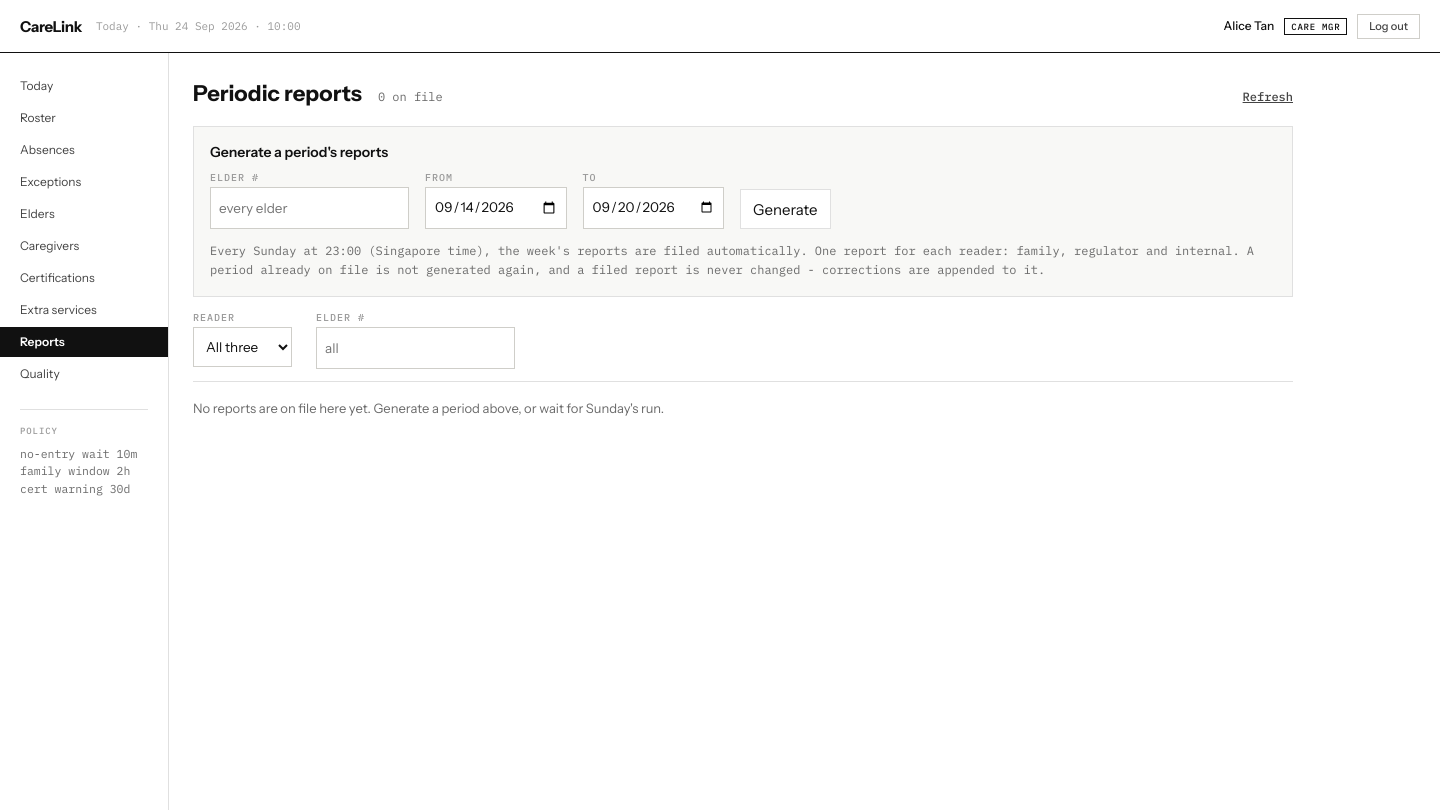
Test case: the report list › offers last week, files the period's three reports and reads the list again
expect the text "No reports are on file here yet" is shown: met, box x1=193 y1=400 x2=664 y2=416
expect the date field labelled "From" holds "2026-09-14": met, box x1=425 y1=187 x2=566 y2=229
Click the button "Generate" at (785, 209), box x1=740 y1=189 x2=830 y2=229
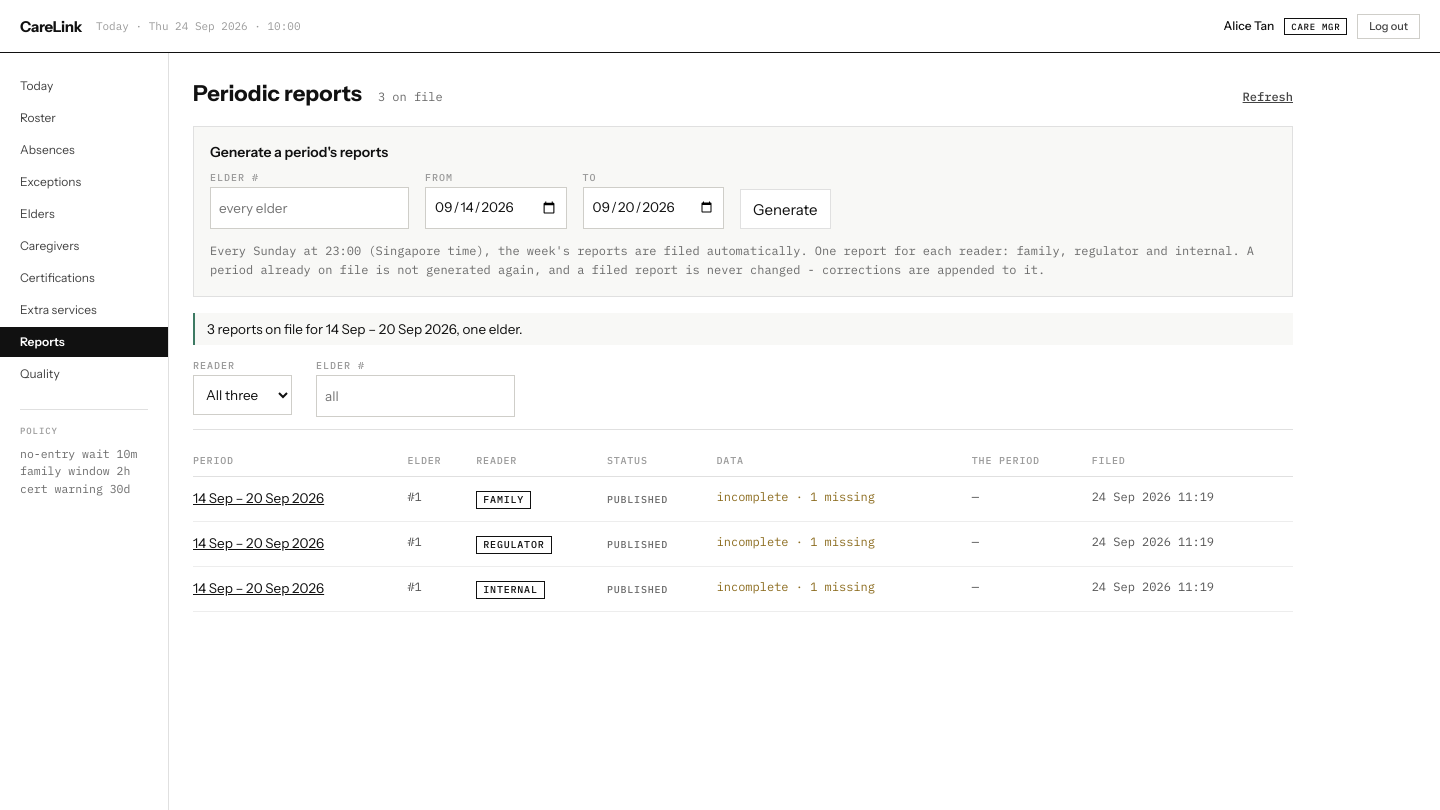
expect the message reads "3 reports on file for 14 Sep – 20 Sep 2026, one elder.": met, box x1=207 y1=321 x2=522 y2=337
expect the number of rows is 4: met, box x1=193 y1=446 x2=1293 y2=476; x1=193 y1=476 x2=1293 y2=521; x1=193 y1=521 x2=1293 y2=566; x1=193 y1=566 x2=1293 y2=611
expect the text "Family" is shown: met, box x1=476 y1=491 x2=531 y2=509
